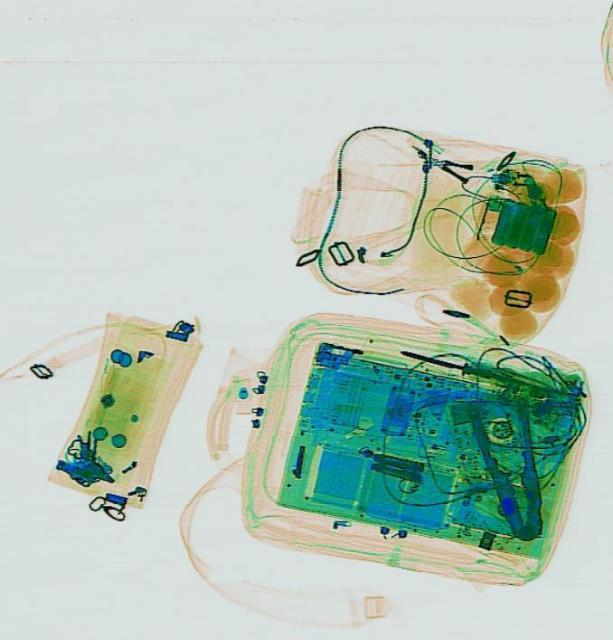Pliers: (464, 392, 560, 546)
